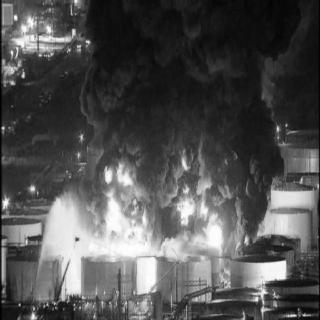Fire: (47, 164, 251, 300)
Smoke: (93, 1, 284, 197)
